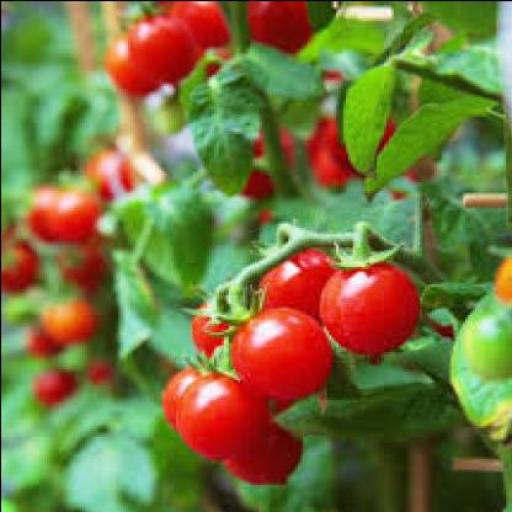biodegradable: (203, 281, 330, 409), (349, 94, 490, 194), (170, 342, 268, 458), (318, 257, 414, 353), (182, 85, 249, 201), (246, 38, 326, 128), (336, 57, 394, 181), (251, 237, 332, 321), (216, 410, 302, 484), (182, 276, 246, 360), (125, 7, 194, 83), (225, 126, 292, 196), (208, 52, 266, 129), (160, 351, 213, 432), (98, 24, 158, 92), (150, 1, 228, 46), (330, 109, 390, 165), (239, 1, 309, 48), (41, 179, 101, 233), (38, 295, 94, 344), (55, 240, 100, 286), (24, 183, 62, 235), (304, 140, 345, 188), (1, 225, 32, 288), (86, 143, 124, 194), (414, 296, 452, 335), (29, 366, 72, 398), (488, 250, 510, 296), (387, 161, 417, 192), (58, 340, 91, 368), (24, 329, 56, 353), (301, 113, 330, 139), (86, 360, 108, 375), (251, 203, 263, 218)
